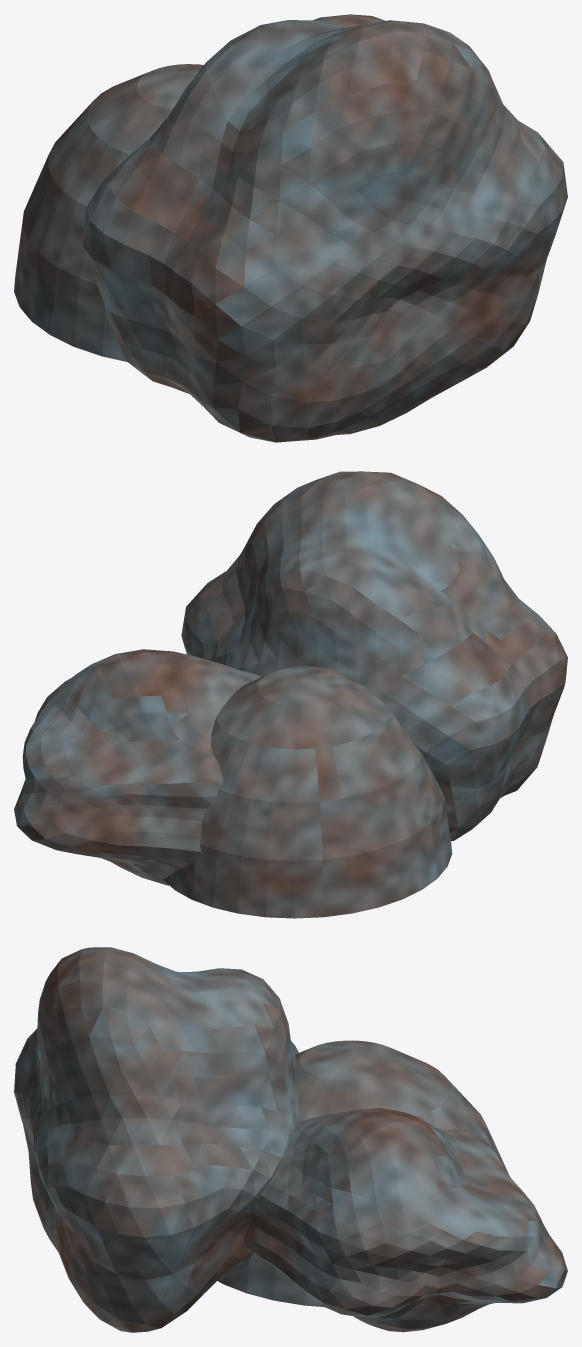
The picture shows the model from 3 angles, top to bottom: view 1: azimuth 30°, elevation 25°; view 2: azimuth 150°, elevation 25°; view 3: azimuth 270°, elevation 25°; orthographic projection. The views are drawn at different scales.
Parts seen in each view (by area): view 1: geometry_0; view 2: geometry_0; view 3: geometry_0.
Part boxes in pixels (x1=…): geometry_0: x1=14, y1=14, x2=567, y2=442; geometry_0: x1=14, y1=471, x2=567, y2=918; geometry_0: x1=14, y1=947, x2=567, y2=1332.
Bounding box in the file's own units: 1.47 × 1.2 × 1.71.
1 material, 1 textured.
